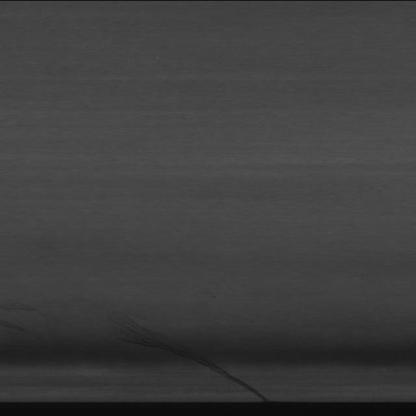water_spot: (90, 307, 292, 400)
